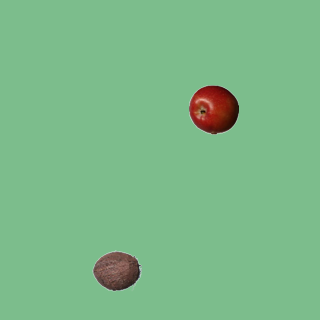Apple Braeburn: (188, 84, 238, 134)
Cocos: (91, 245, 141, 295)
